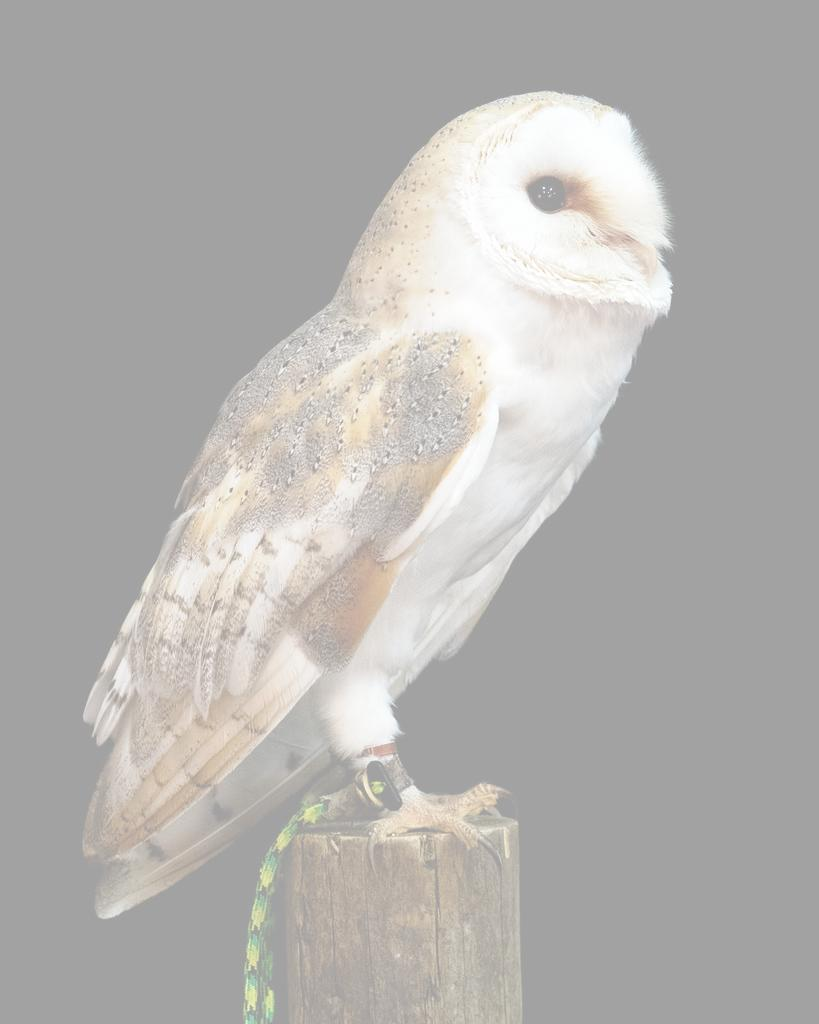Owl: (78, 88, 684, 918)
